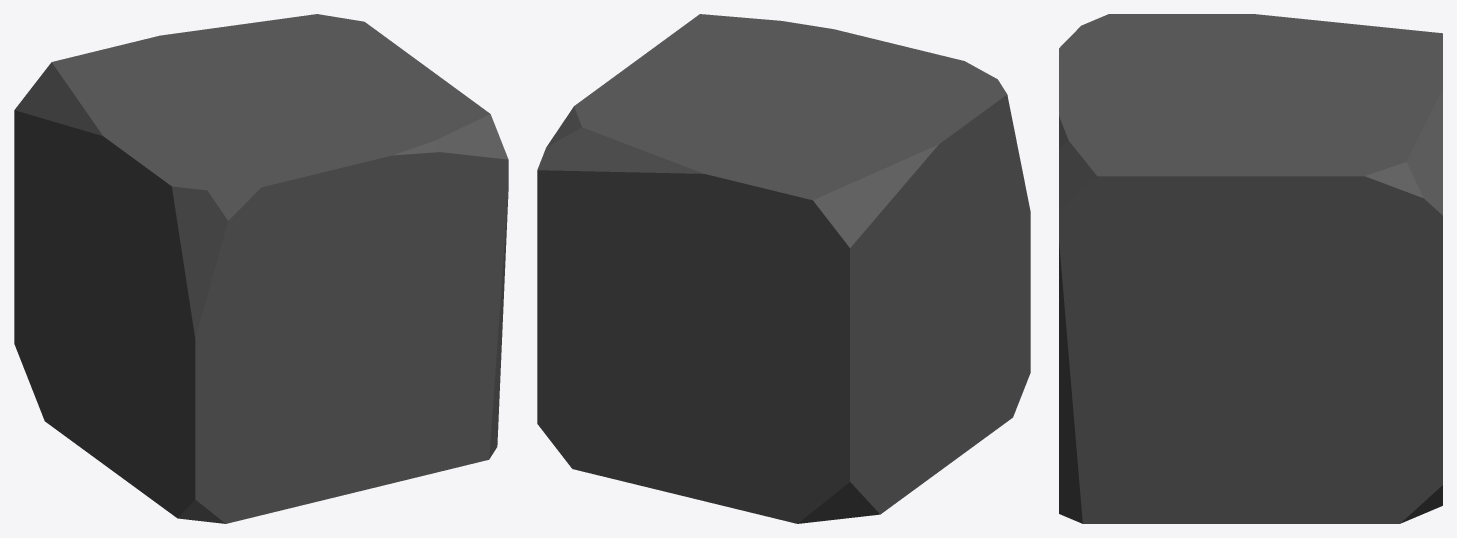
The model's file is Ruins_14.fbx.
The picture shows the model from 3 angles, left to right: view 1: azimuth 30°, elevation 25°; view 2: azimuth 150°, elevation 25°; view 3: azimuth 270°, elevation 25°; orthographic projection. The views are drawn at different scales.
Parts seen in each view (by area): view 1: Ruins_14; view 2: Ruins_14; view 3: Ruins_14.
Boxes of the visible parts, box(x1,y1,x2,y2) form: Ruins_14: box(14, 14, 508, 523); Ruins_14: box(537, 14, 1030, 523); Ruins_14: box(1059, 14, 1442, 523).
Size of the model in its own units: 89.7 by 89.7 by 89.7.
